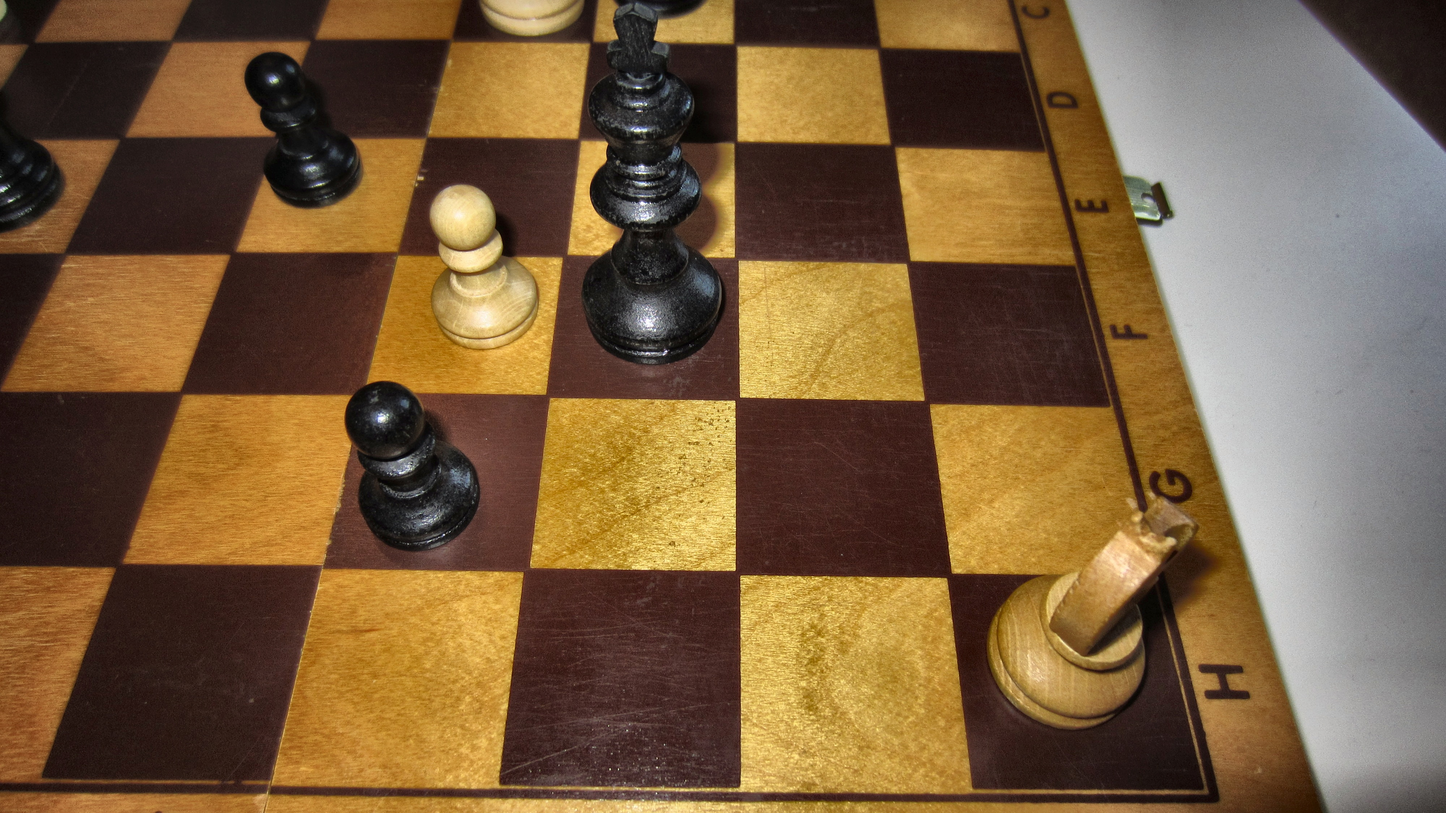black-king: (581, 1, 727, 365)
black-pawn: (343, 378, 483, 552), (241, 49, 365, 209)
white-knight: (984, 495, 1202, 732)
white-pawn: (426, 182, 541, 351)
